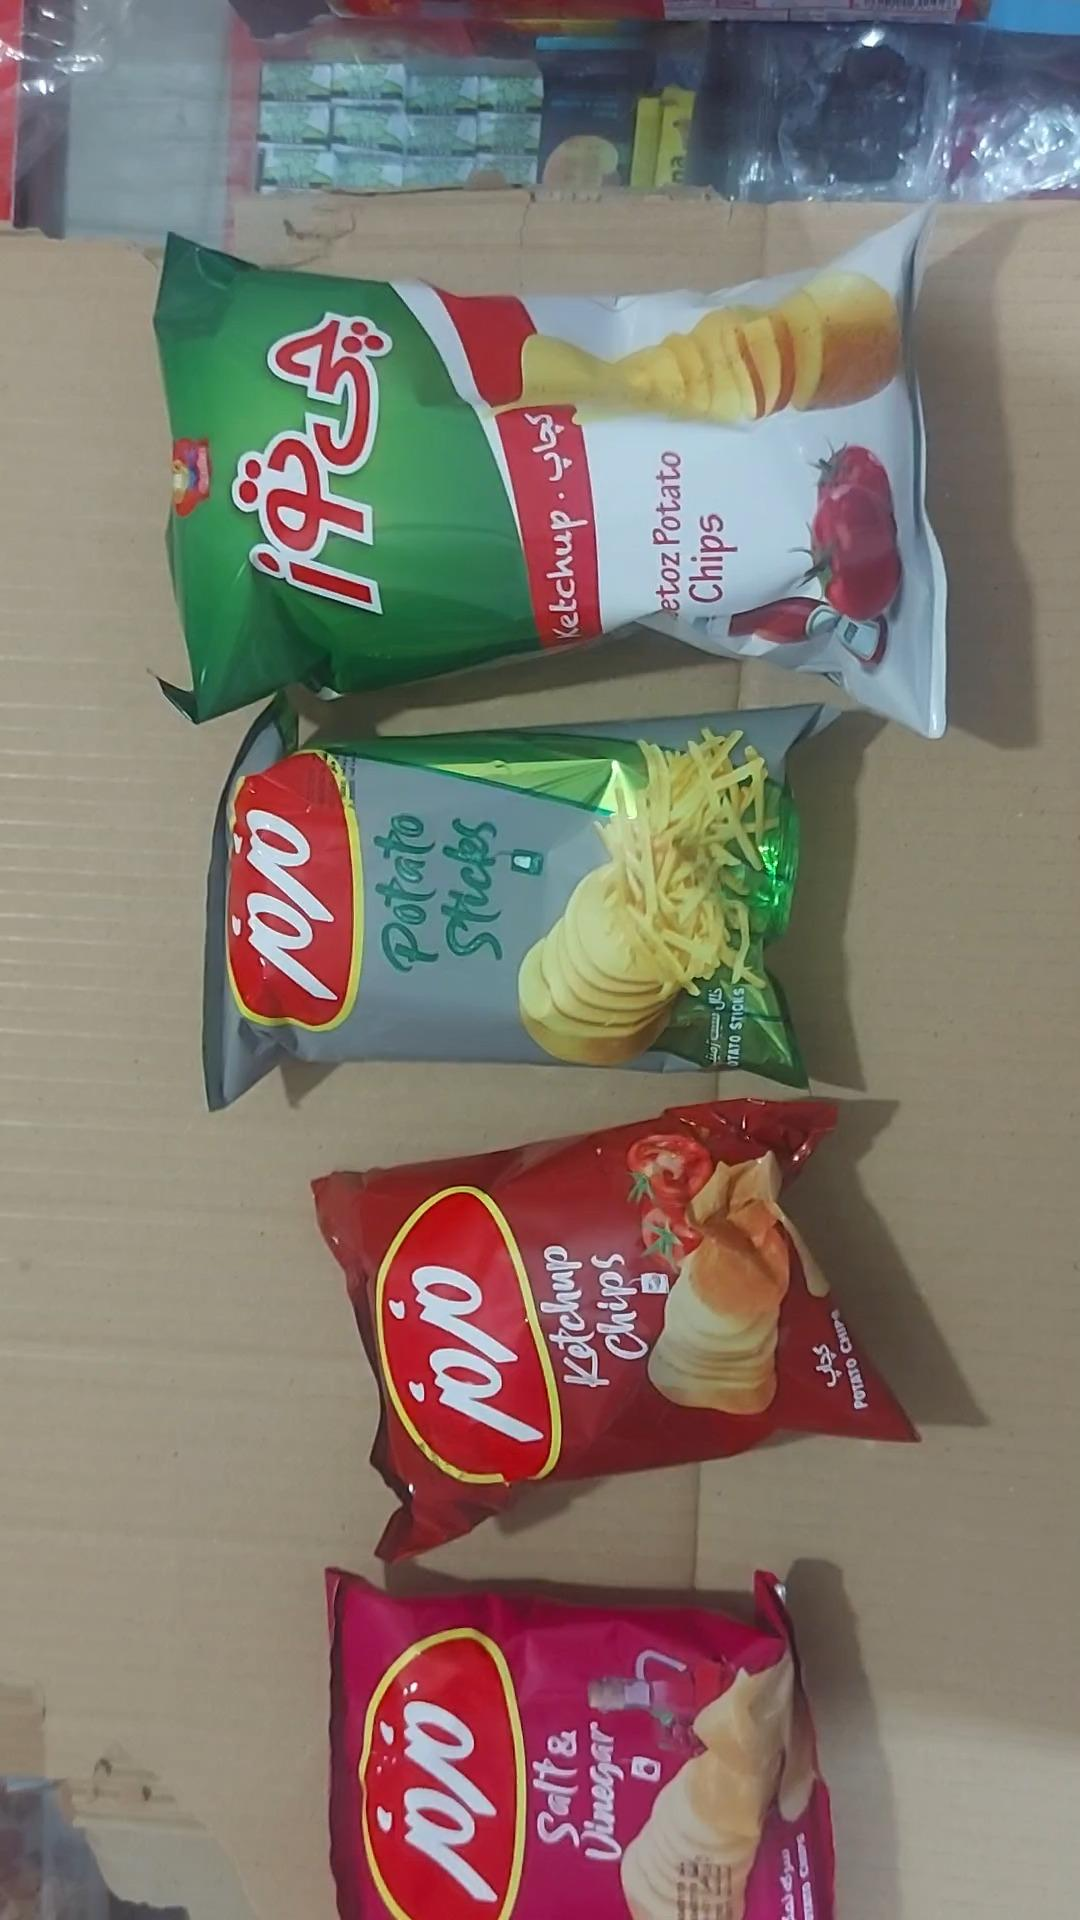Cheetoz ketchup chips: (152, 204, 948, 741)
Maz Maz ketchup chips: (311, 1100, 924, 1565)
Maz Maz potato sticks: (202, 695, 822, 1112)
Maz Maz vinegar chips: (323, 1567, 836, 1919)
